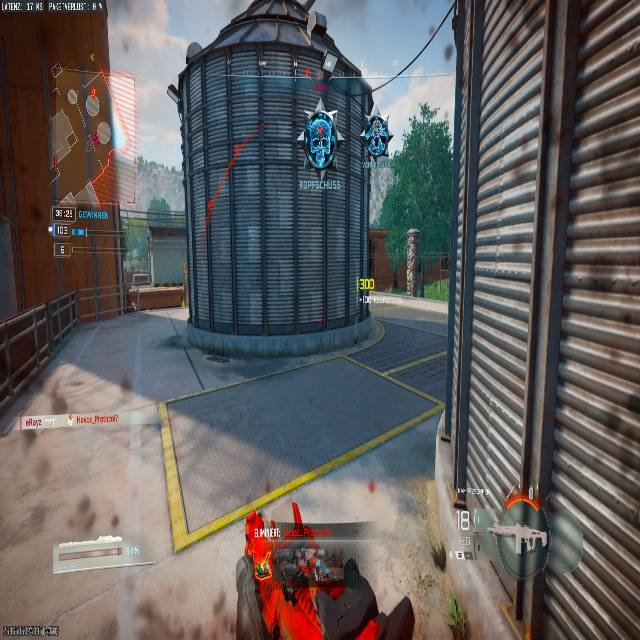head: (368, 111, 386, 126)
player: (236, 512, 411, 639), (362, 111, 392, 165), (402, 227, 420, 291)
